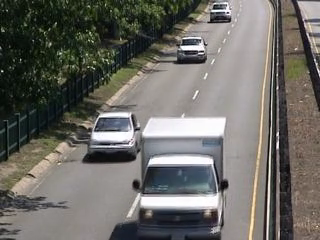car: (88, 110, 145, 165), (175, 35, 209, 66), (208, 1, 238, 25)
truck: (141, 115, 232, 239)
